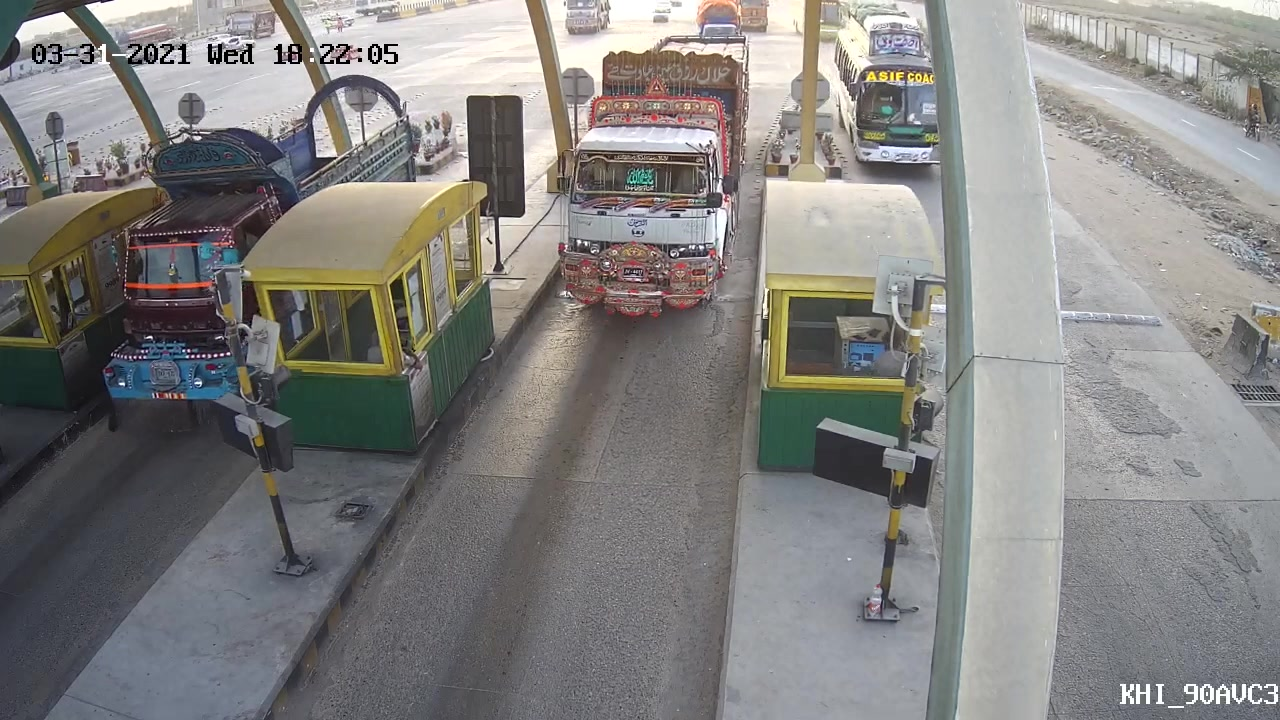F5: (544, 33, 757, 322)
